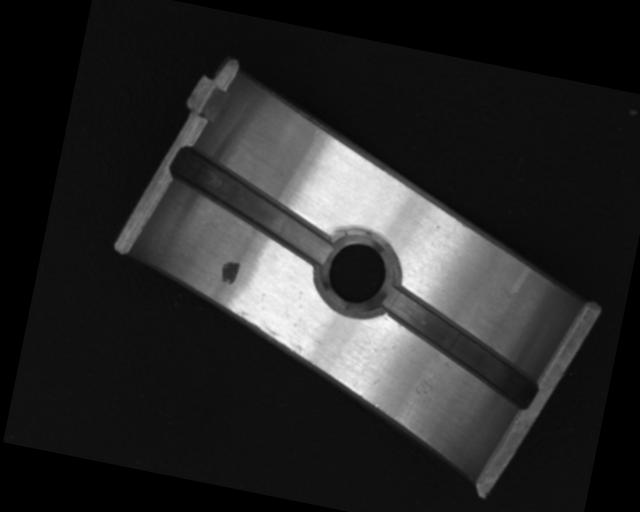blot: (218, 256, 241, 286)
gap: (367, 282, 553, 410), (159, 144, 343, 269)
hole: (316, 223, 400, 316)
